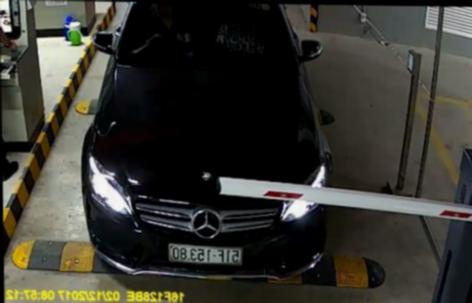License_Plate: (166, 240, 246, 269)
